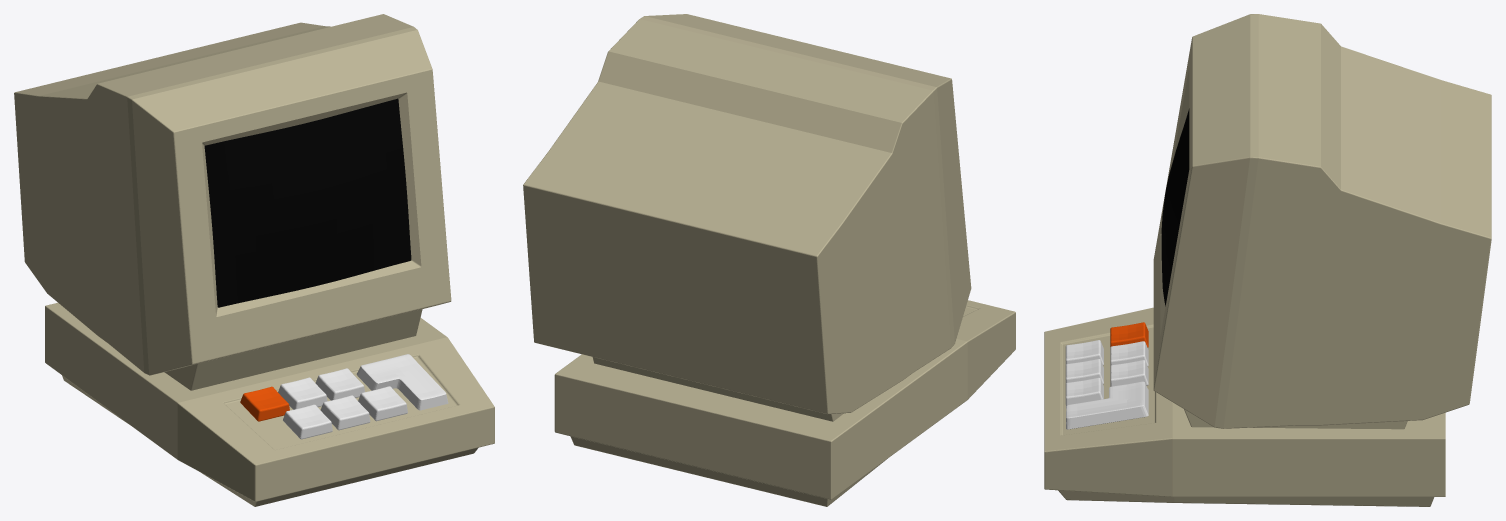
File: dotoro.glb
3 renders of one model, left to right at view 1: azimuth 30°, elevation 25°; view 2: azimuth 150°, elevation 25°; view 3: azimuth 270°, elevation 25°, orthographic. The views are drawn at different scales.
Visible parts, largest first — view 1: body, screen, key-enter, key-left, key-down, key-boot, key-right, key-menu, key-up; view 2: body; view 3: body, screen, key-enter, key-right, key-menu, key-boot, key-left, key-up, key-down.
Boxes of the visible parts, <box> form: body: <box>14,14,494,506</box>; screen: <box>204,98,411,307</box>; key-enter: <box>356,354,448,410</box>; key-left: <box>283,404,332,439</box>; key-down: <box>320,395,370,430</box>; key-boot: <box>240,386,289,421</box>; key-right: <box>358,386,407,421</box>; key-menu: <box>315,368,364,400</box>; key-up: <box>278,377,327,409</box>; body: <box>523,14,1015,506</box>; body: <box>1044,14,1491,506</box>; screen: <box>1161,108,1189,306</box>; key-enter: <box>1066,381,1148,429</box>; key-right: <box>1065,377,1103,408</box>; key-menu: <box>1110,360,1148,386</box>; key-boot: <box>1110,322,1148,347</box>; key-left: <box>1065,340,1103,365</box>; key-up: <box>1110,341,1148,366</box>; key-down: <box>1065,359,1103,384</box>.
Size of the model in its own units: 2 by 2.33 by 2.62.
Materials: 3 (1 with a texture image).
